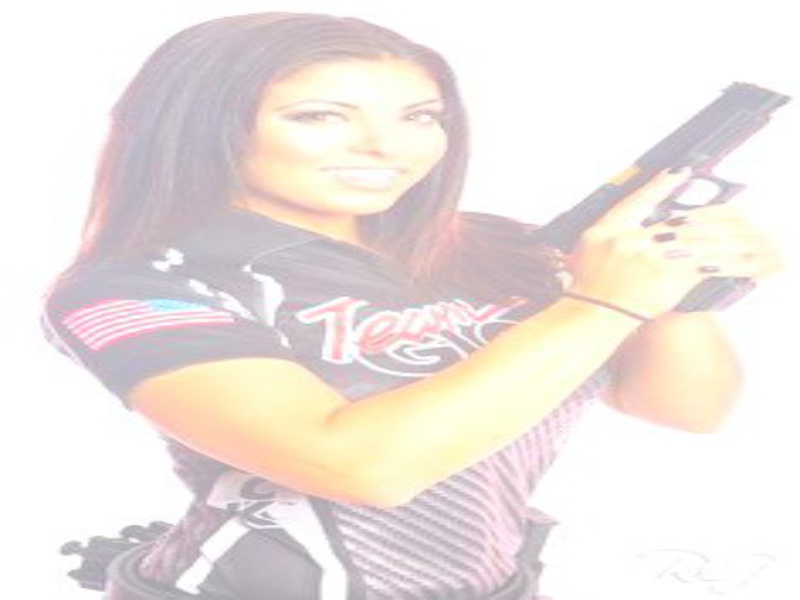wine: (3, 1, 791, 600)
